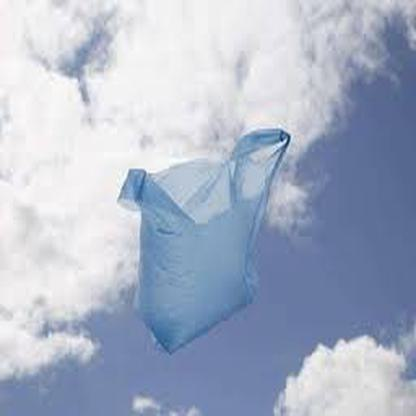plastic bag: (115, 125, 294, 354)
